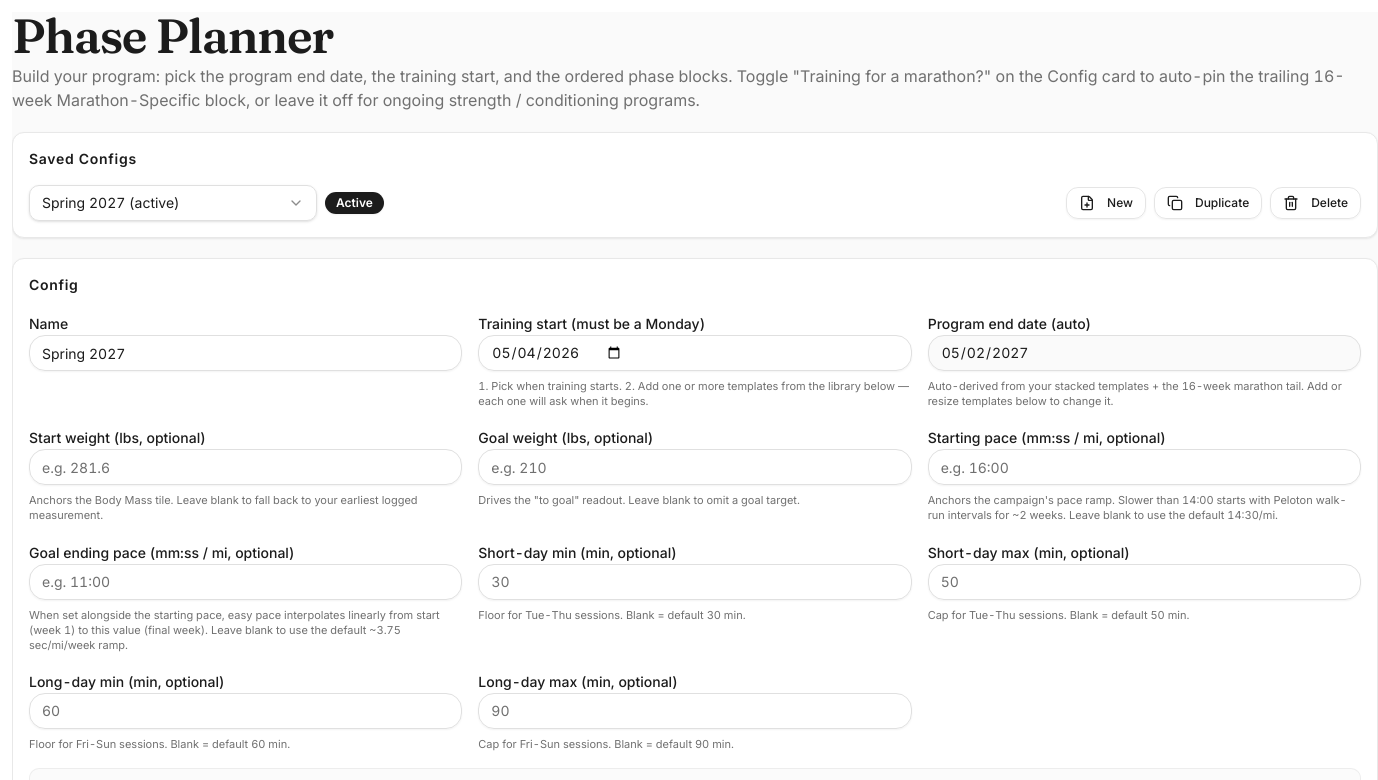
Test: Planner date validation surfacing › flags a non-Monday training start date
# 2026-05-05 is a Tuesday.
Type "2026-05-05" into the date field with test id "planner-start-date" at (695, 353), box x1=478 y1=335 x2=912 y2=371
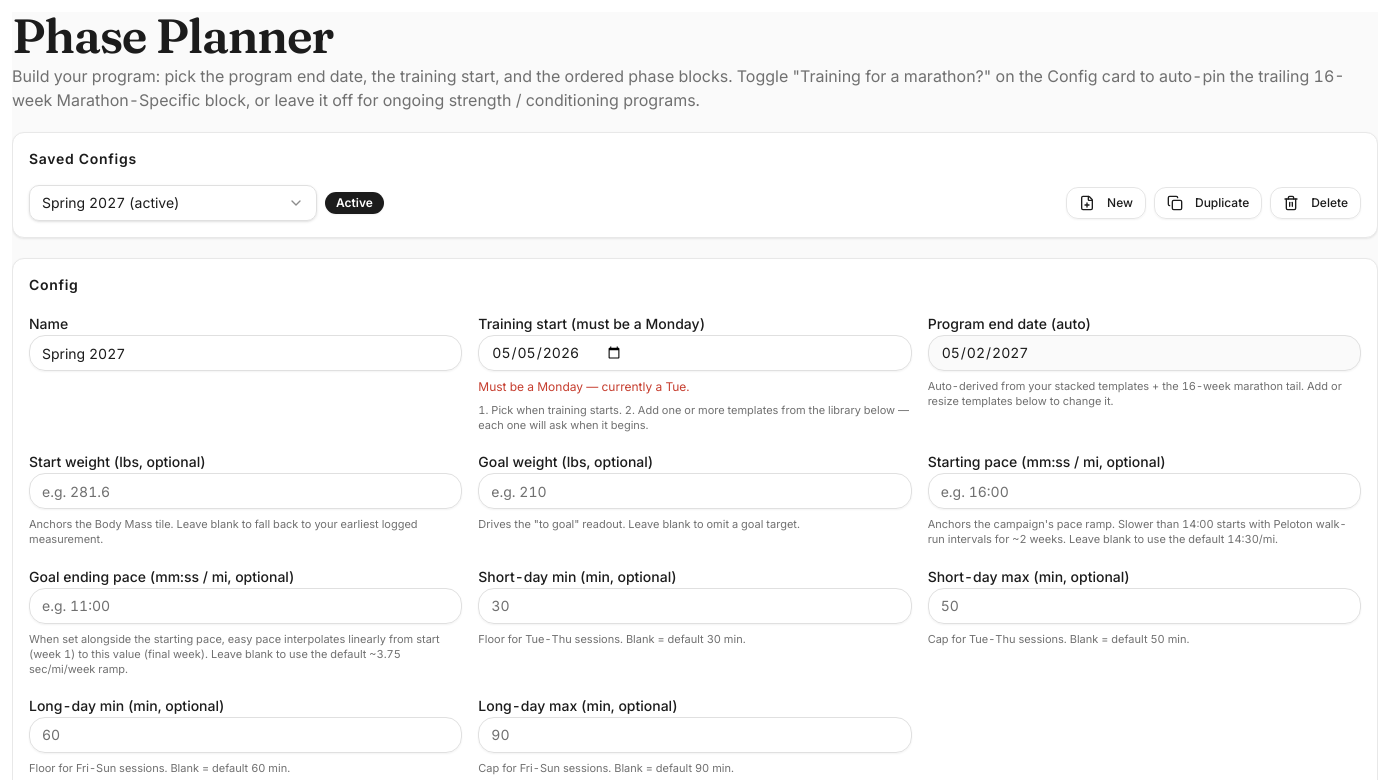
Now the text "Must be a Monday — currently a Tue." is shown, box x1=478 y1=379 x2=690 y2=394
